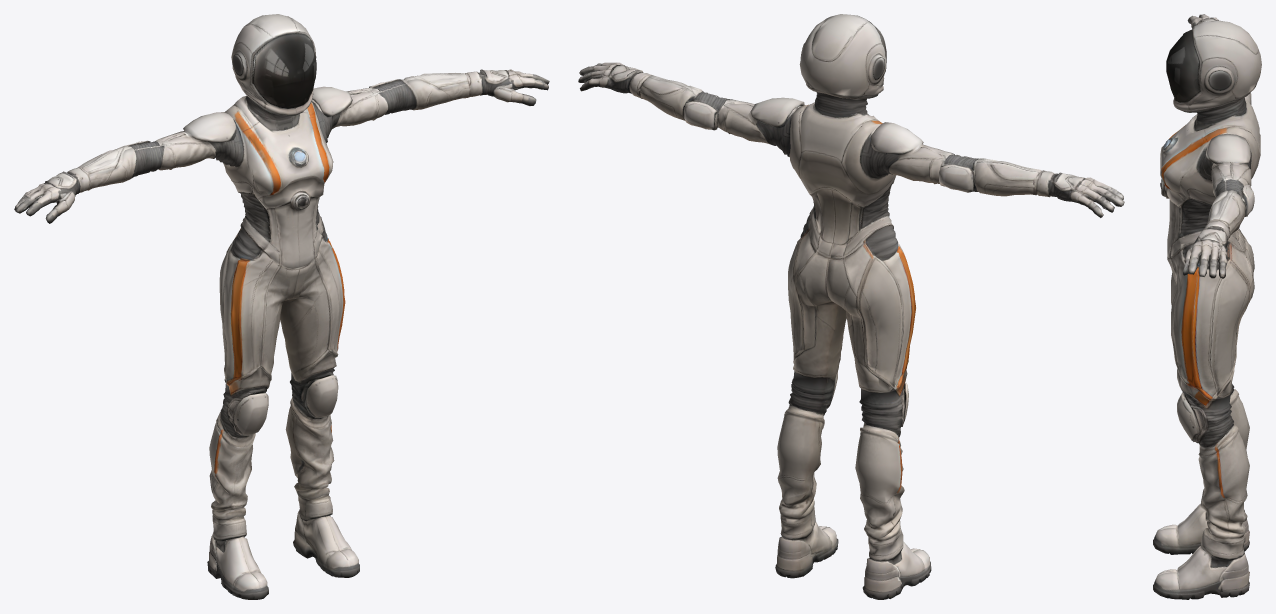
3 renders of one model, left to right at view 1: azimuth 30°, elevation 25°; view 2: azimuth 150°, elevation 25°; view 3: azimuth 270°, elevation 25°, orthographic. The views are drawn at different scales.
Parts seen in each view (by area): view 1: tripo_node_bb8c2c2a-271c-46fd-8545-a400eb45eb47; view 2: tripo_node_bb8c2c2a-271c-46fd-8545-a400eb45eb47; view 3: tripo_node_bb8c2c2a-271c-46fd-8545-a400eb45eb47.
Boxes of the visible parts, x1,y1,x2,y2 form: tripo_node_bb8c2c2a-271c-46fd-8545-a400eb45eb47: [14, 14, 549, 599]; tripo_node_bb8c2c2a-271c-46fd-8545-a400eb45eb47: [578, 14, 1124, 599]; tripo_node_bb8c2c2a-271c-46fd-8545-a400eb45eb47: [1153, 14, 1261, 599].
Bounding box in the file's own units: 0.9848 × 0.9732 × 0.1754.
1 material, 1 textured.
